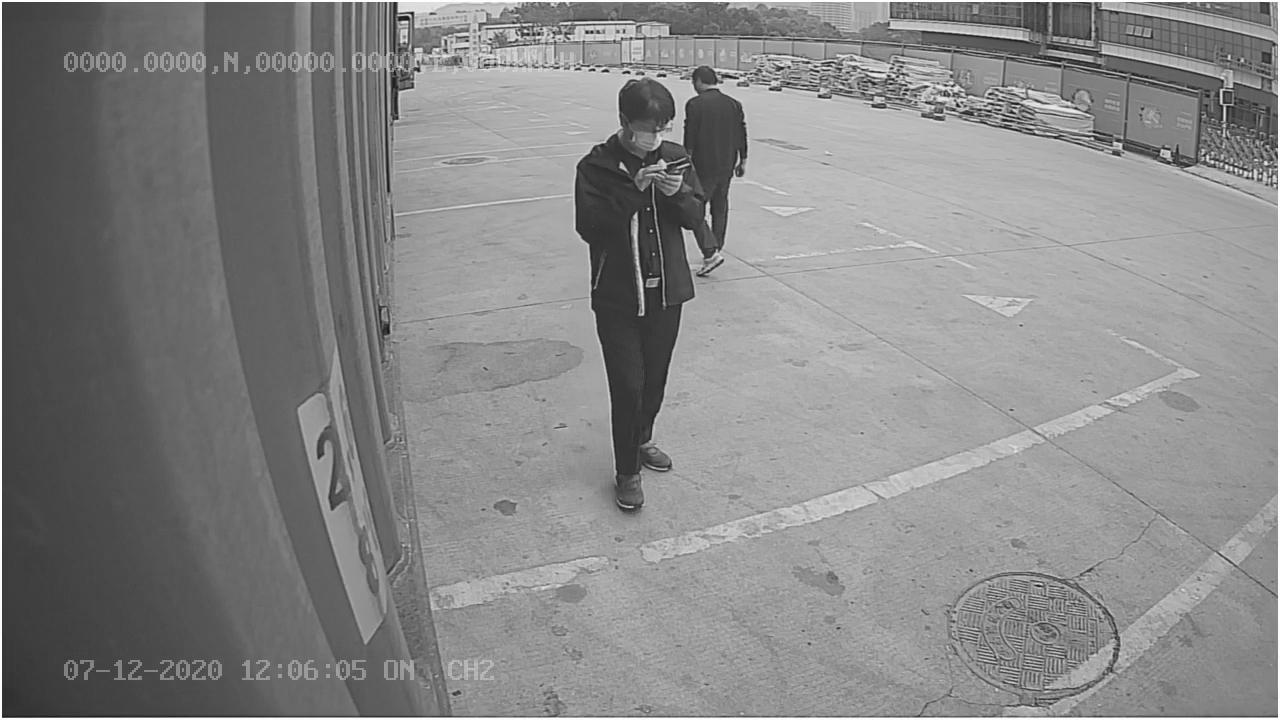person: (574, 79, 705, 513)
